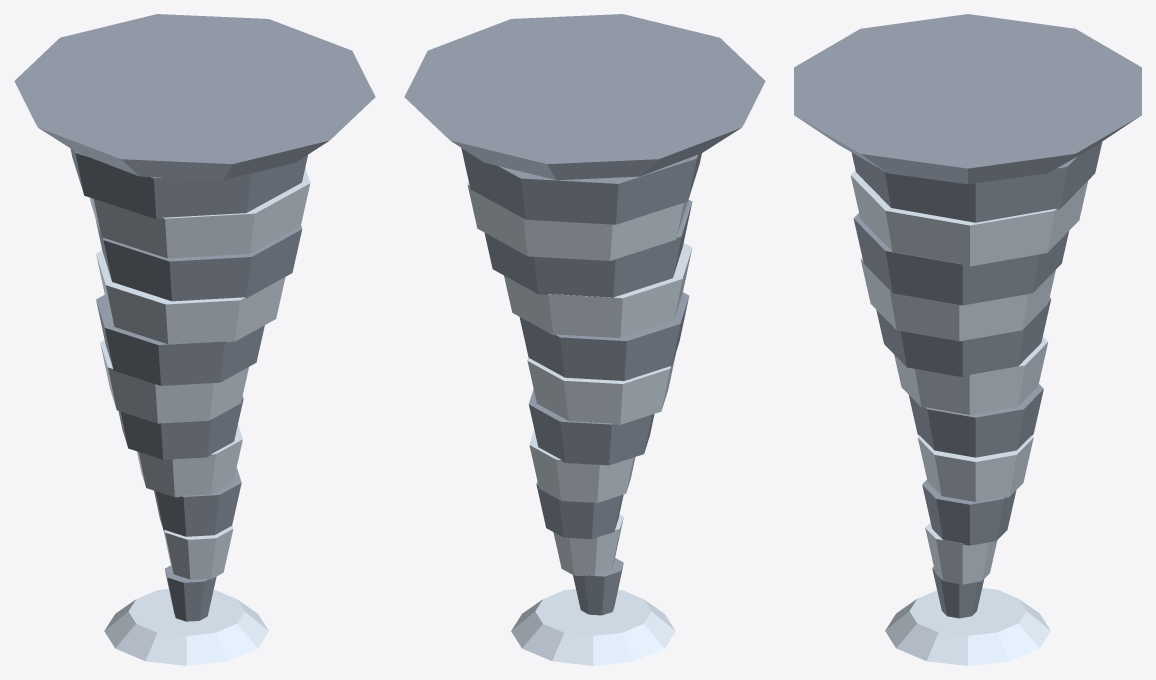
File: tromba_marina.obj
3 views of the same model, side by side, from view 1: azimuth 30°, elevation 25°; view 2: azimuth 150°, elevation 25°; view 3: azimuth 270°, elevation 25° (orthographic).
Visible parts, largest first — view 1: tromba_marina; view 2: tromba_marina; view 3: tromba_marina.
Part boxes in pixels (bbox=[...]): tromba_marina: bbox=[14, 14, 375, 665]; tromba_marina: bbox=[404, 14, 765, 665]; tromba_marina: bbox=[794, 14, 1141, 665].
Bounding box in the file's own units: 15 × 24.6 × 14.27.
